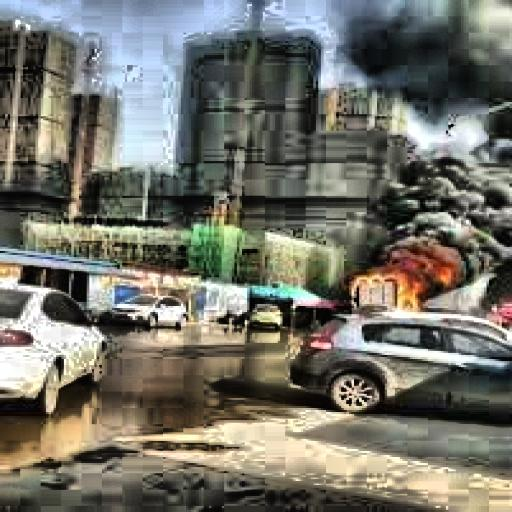fire: (344, 249, 476, 336)
